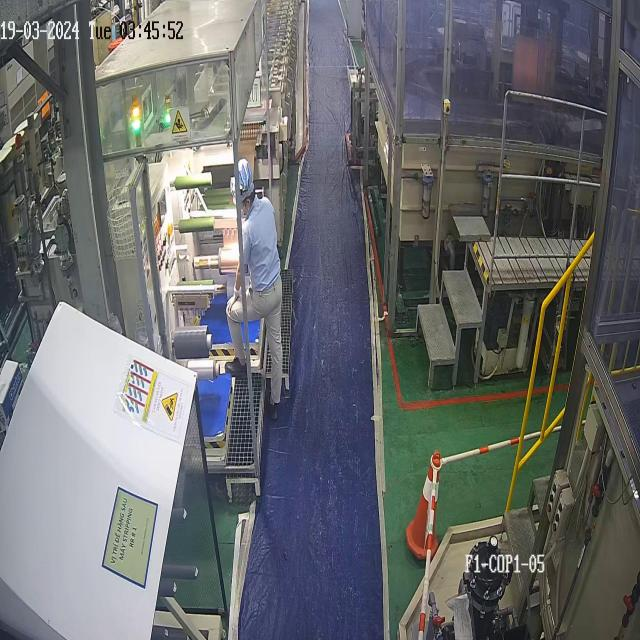Person: (224, 158, 284, 420)
